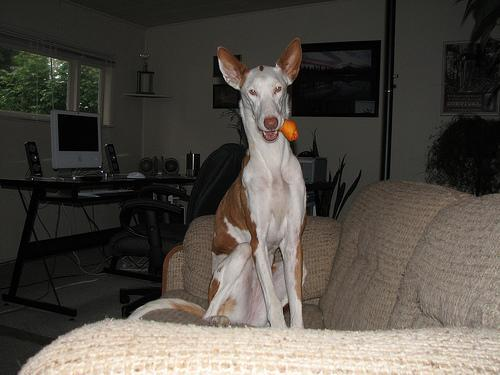Ibizan_hound: (168, 35, 306, 327)
